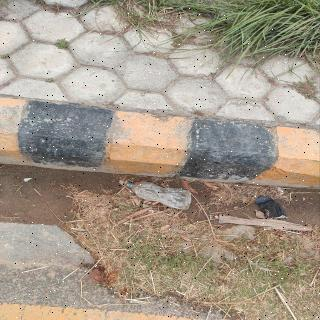Plastic-bottle: (124, 179, 194, 213)
